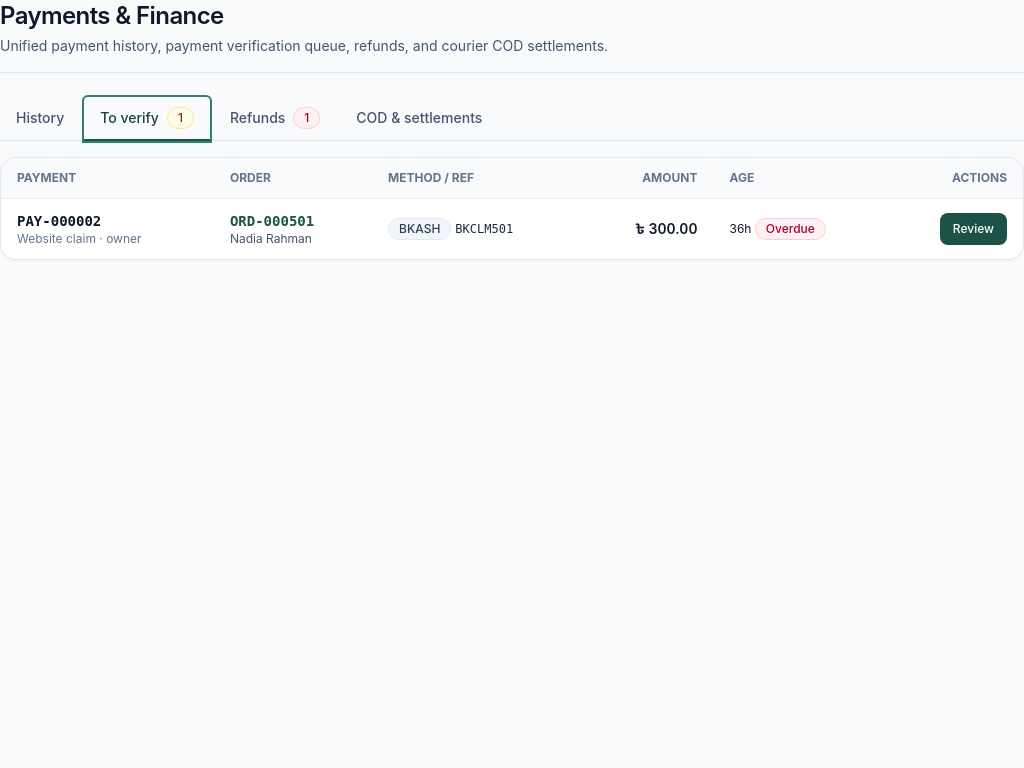
Phase 5 Payments, Refunds, COD & Finance UI › renders PaymentsPage tabs (History, Pending, Refunds, COD live settlement math)
Earlier steps of the test are not shown.
Later steps or results of the test are not shown.
Expected: the text "PAY-000002" is shown, [17,213,101,229]
Expected: the text "Overdue" is shown, [755,218,826,240]
Click the tab "Refunds 1" at (275, 119), box [214,97,336,141]
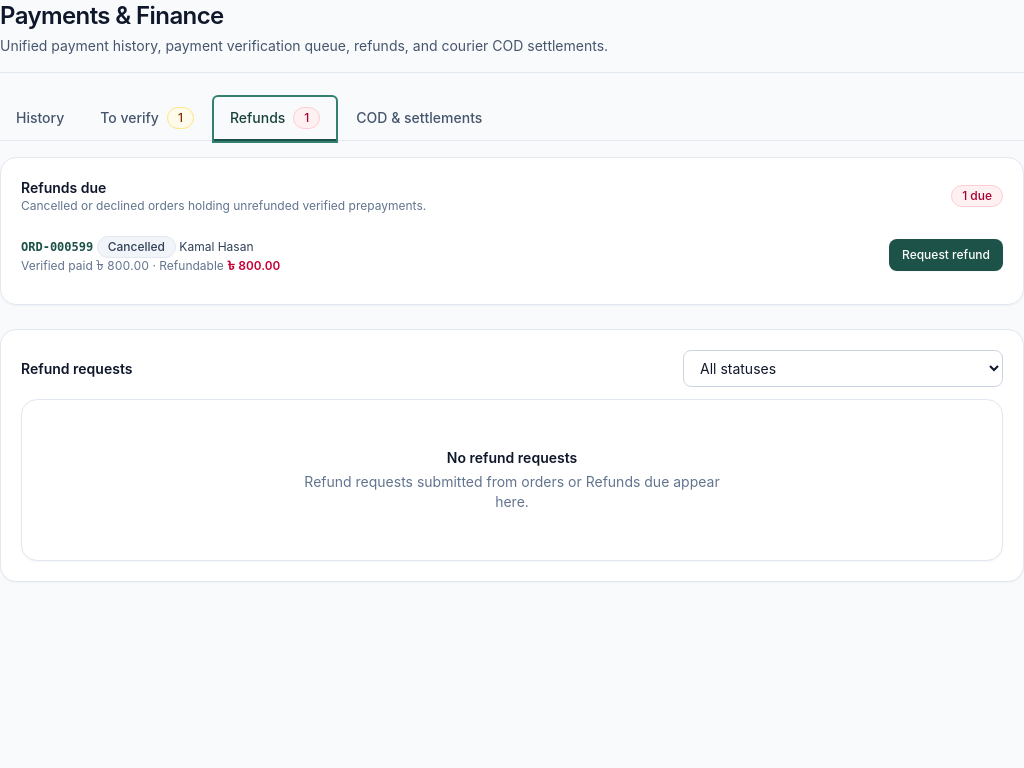
Expected: the link "ORD-000599" is shown, [21,240,93,254]
Click the tab "COD & settlements" at (419, 119), box [340,97,498,141]
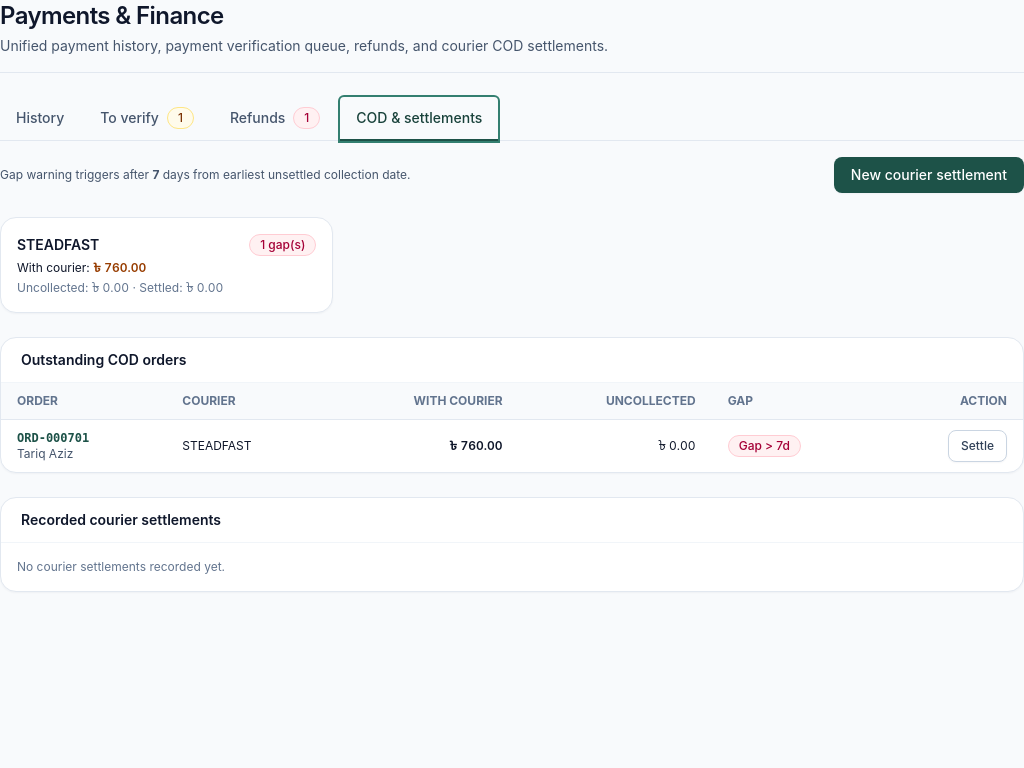
Expected: the text "Gap > 7d" is shown, [728,435,801,457]
Click the button "Settle" at (978, 446), box [948,430,1007,462]
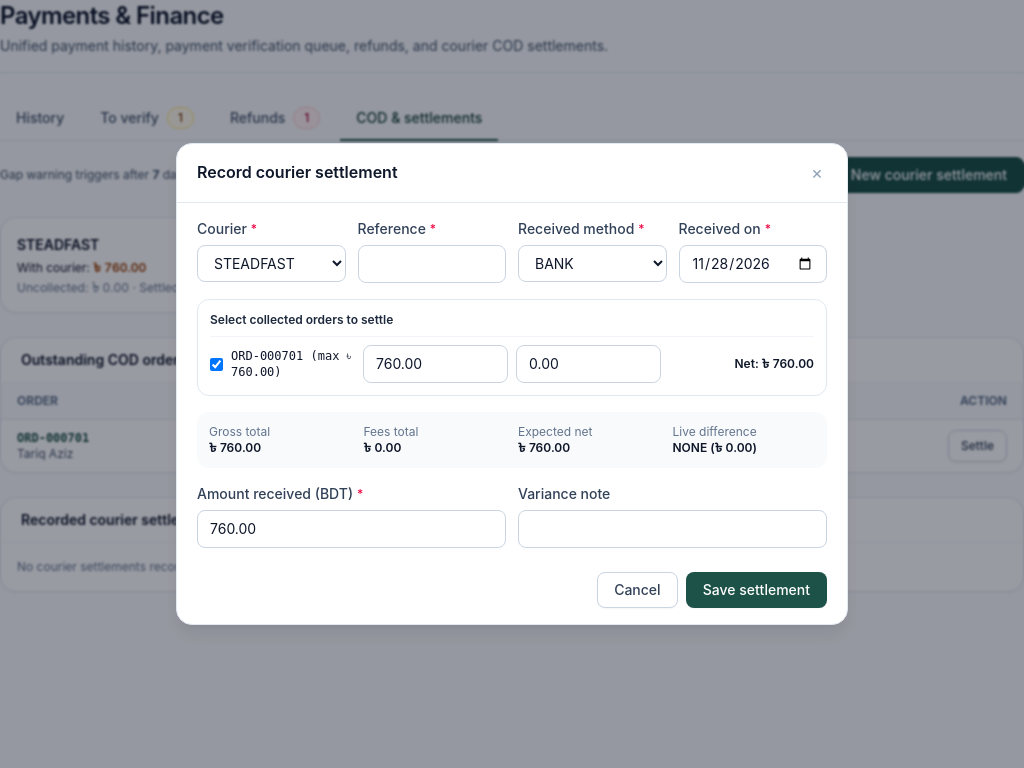
Type "STF-2026-01" into the field named "Settlement reference" at (432, 264), box [358,245,506,283]
Replace the text in the number field named "Fee ORD-000701" with "20.00" at (588, 364), box [516,345,661,383]
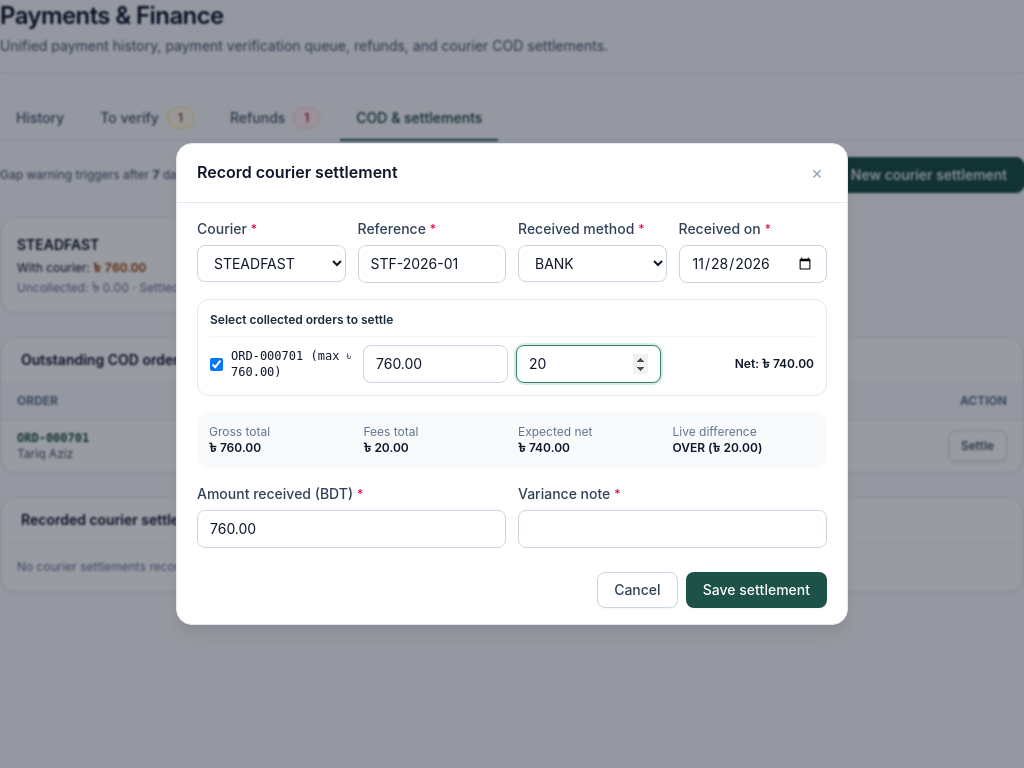
Replace the text in the number field labelled "Amount received" with "730.00" at (352, 529), box [197,510,506,548]
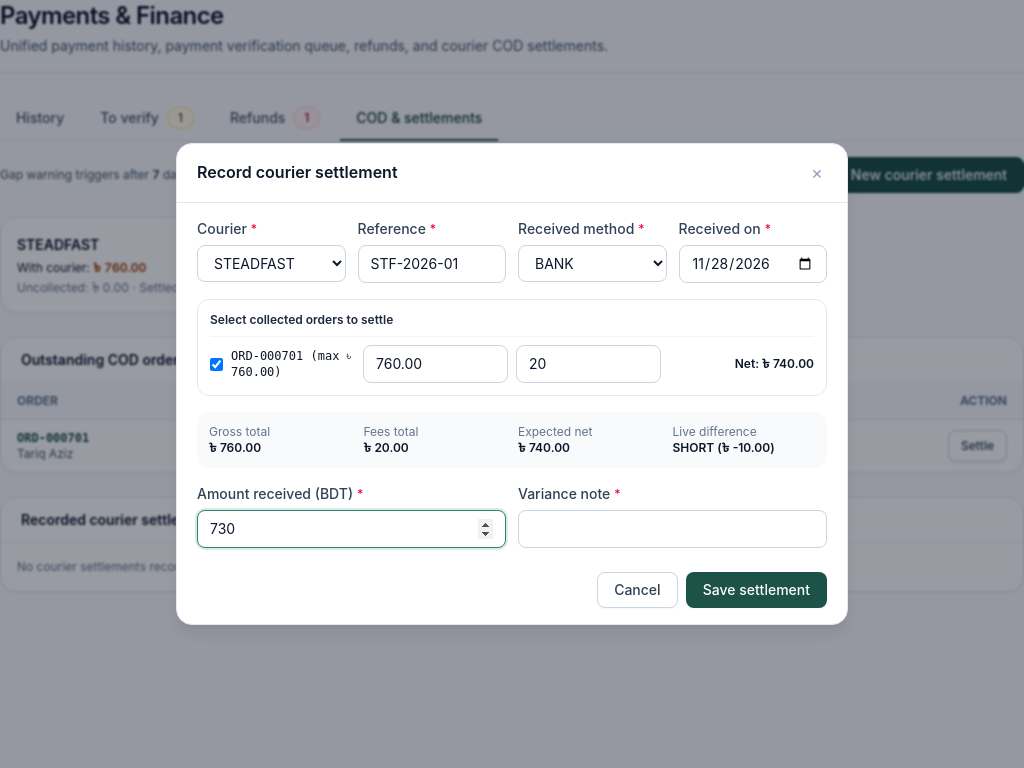
Expected: the text "৳ 740.00" is shown, [518,440,570,455]
Expected: the text "SHORT (৳ -10.00)" is shown, [672,440,775,455]
// Missing note rejected client-side
Click the button "Save settlement" at (756, 590), box [686,572,827,608]
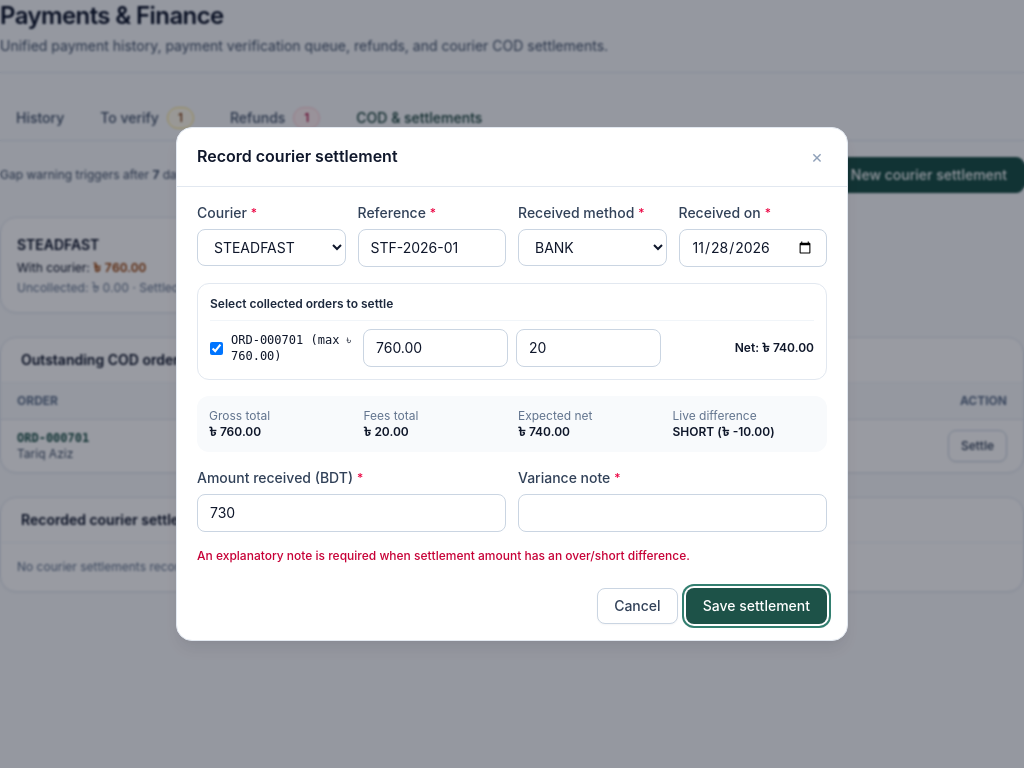
Expected: the message shows "explanatory note is required", [197,548,690,563]
